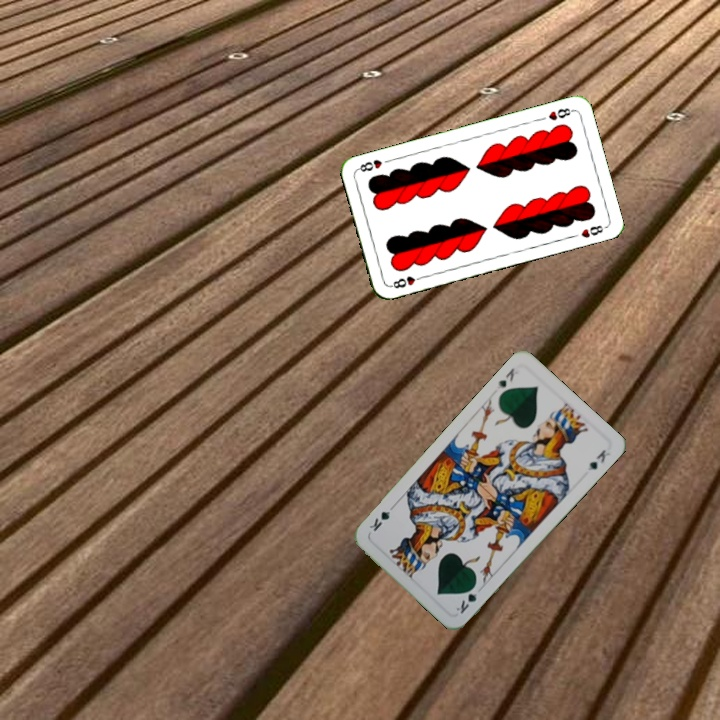GK: (452, 580, 480, 617), (493, 364, 517, 392)
H8: (386, 272, 426, 291), (544, 104, 576, 123)
